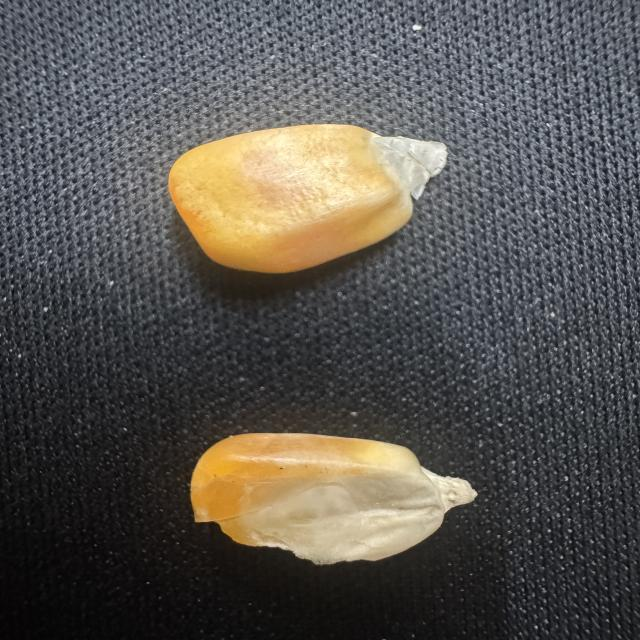Bad-Seed: (182, 422, 483, 576)
Good-Seed: (140, 121, 475, 286)
